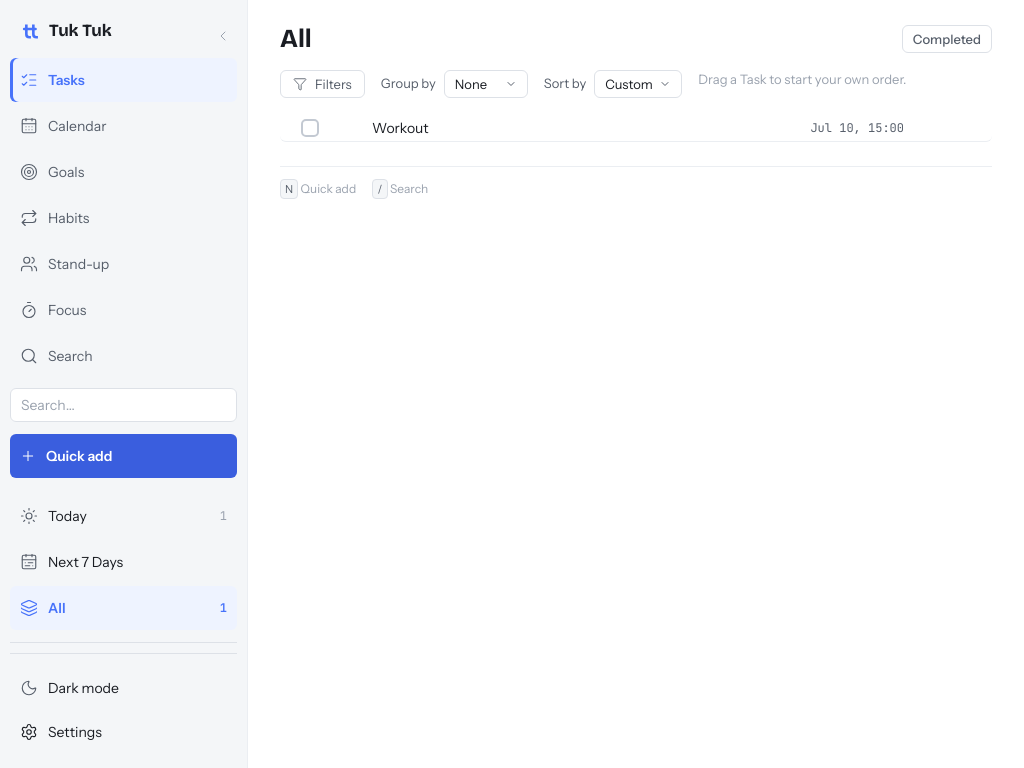
Test: Recurrence in the detail panel › sets a daily repeat from the quick picker
This screenshot has width=1024, height=768.
Step 1. Click the button "Workout" → (490, 128), box [372, 119, 608, 137]
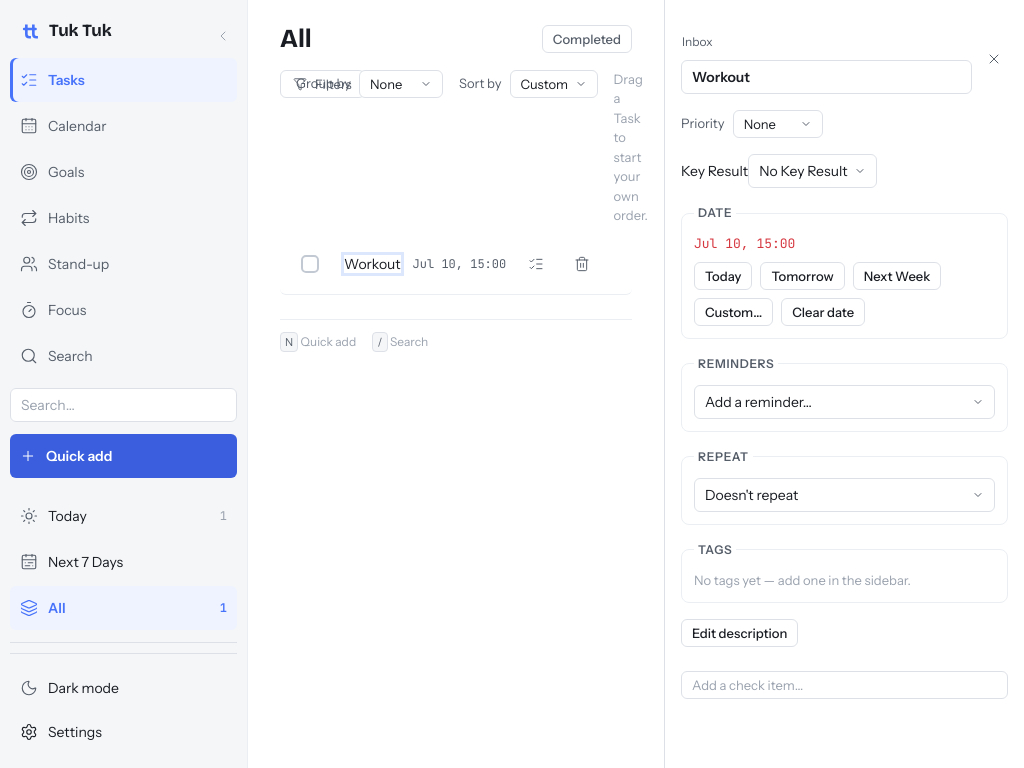
Step 2. Select "Every day" in the dropdown named "Repeat" → (844, 494), box [694, 478, 995, 512]
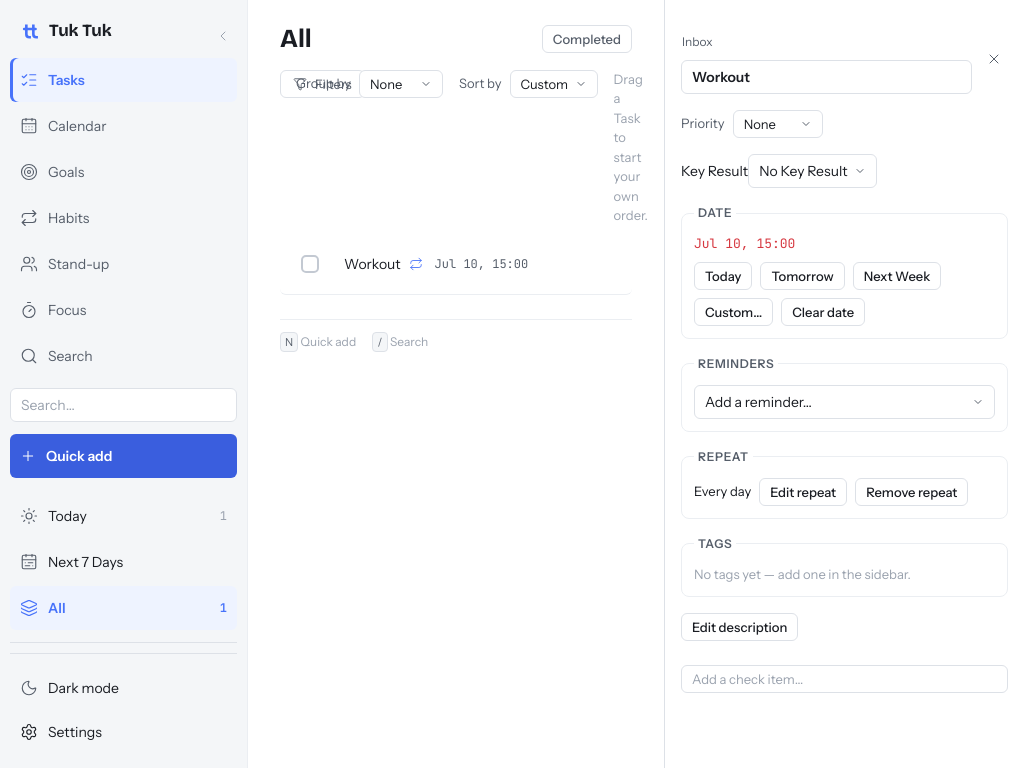
Check: the text "Every day" is shown, box [694, 482, 751, 501]
